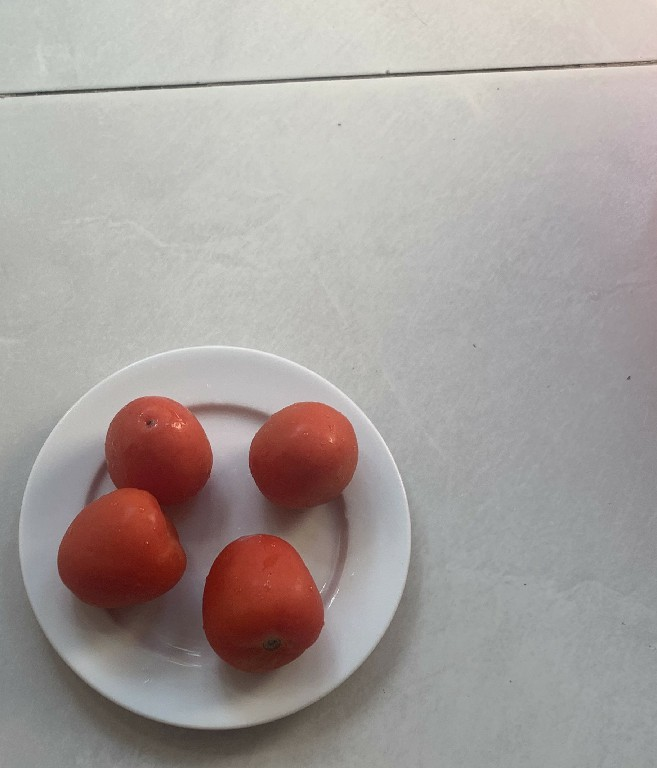OK: (197, 534, 322, 676), (53, 487, 189, 610), (243, 395, 365, 514), (104, 390, 218, 506)
